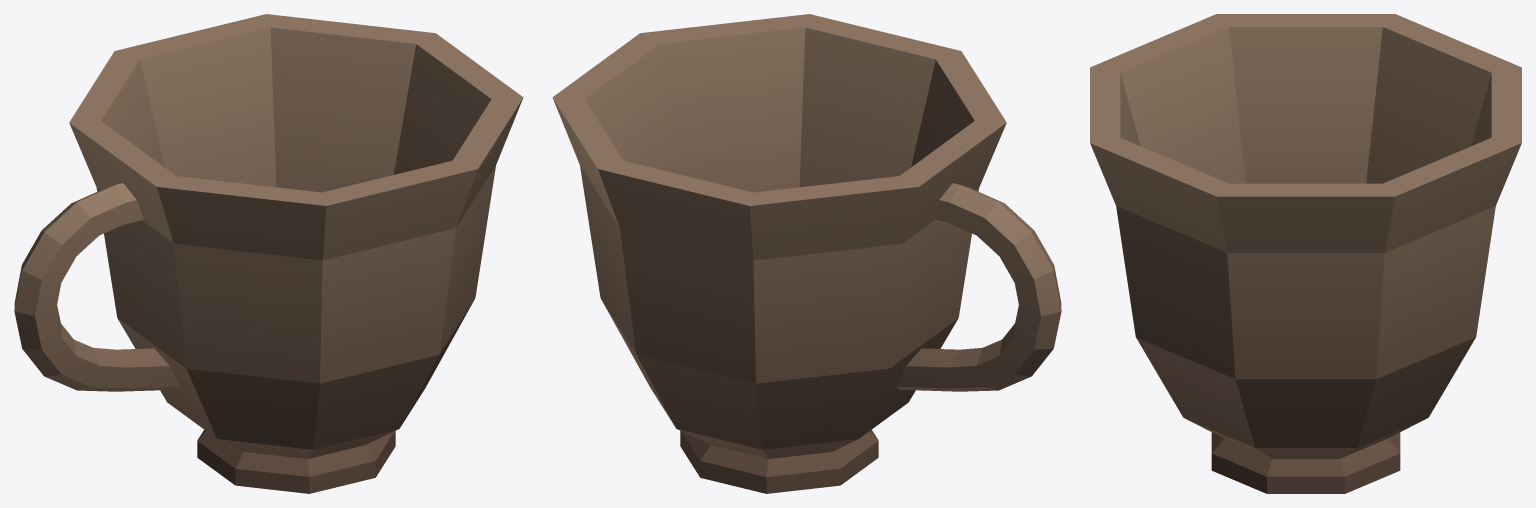
File: Cup1_C5.fbx
3 views of the same model, side by side, from view 1: azimuth 30°, elevation 25°; view 2: azimuth 150°, elevation 25°; view 3: azimuth 270°, elevation 25° (orthographic).
Parts seen in each view (by area): view 1: Cup1_C5; view 2: Cup1_C5; view 3: Cup1_C5.
Part boxes in pixels (<box>): Cup1_C5: <box>14,14,523,493</box>; Cup1_C5: <box>552,14,1061,493</box>; Cup1_C5: <box>1090,14,1521,493</box>.
Size of the model in its own units: 14.44 by 10.14 by 11.38.
